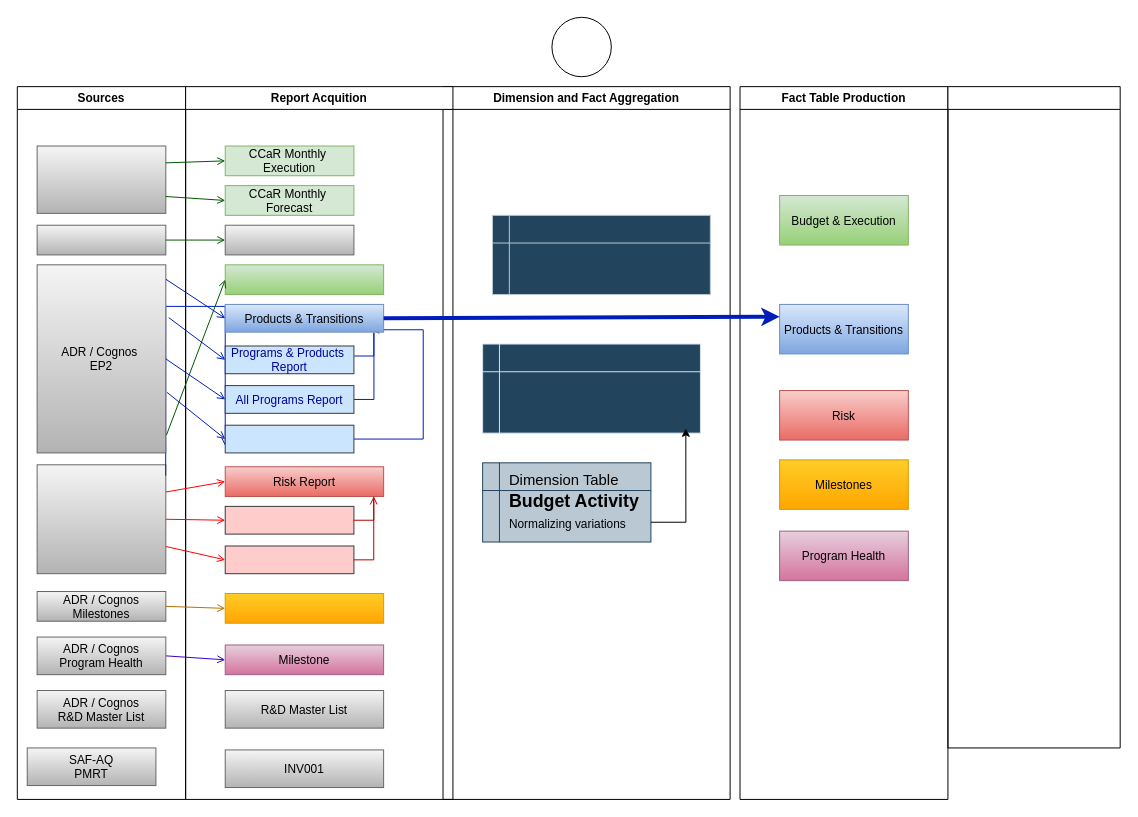
Image size: 1138x817. Some labels were removed from this diagram. The centre of each missing label's shape, as x and y in pixels:
"711/HPW Risk Report" belongs at point (289, 559).
"ADR / Cognos PM App" belongs at point (101, 519).
"Analysis Artifacts" belongs at point (1033, 417).
"CCaR CCaR" belongs at point (101, 179).
"Dimension Table ProgramID All extant ProgramIDs" belongs at point (591, 388).
"Dimension Table ProgramKey ProgramID + PE + BPAC" belongs at point (601, 254).
"Mile Stone Report" belongs at point (304, 608).
"PBES" belongs at point (289, 239).
"PBES PBES" belongs at point (101, 239).
"RW Programs & Products Report" belongs at point (289, 438).
"RW Risk Report" belongs at point (289, 519).
"Shared Budget (FutureYearDEP) Report" belongs at point (304, 279).
